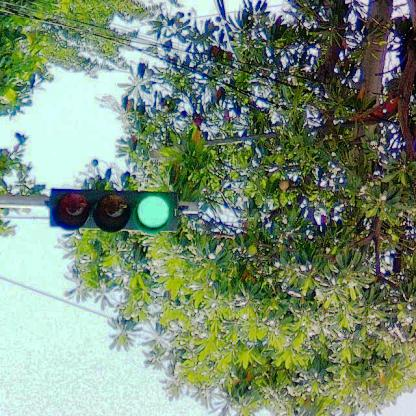Traffic Light -Green-: (48, 186, 176, 233)
